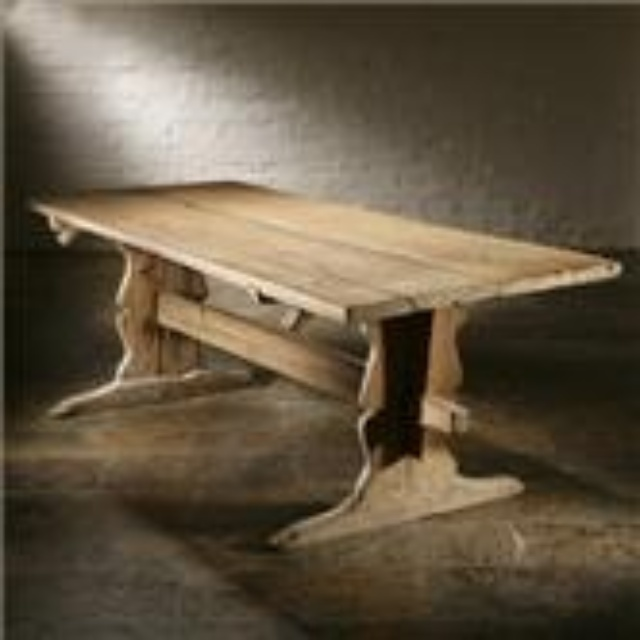obstacle: (35, 185, 617, 440), (359, 447, 520, 528)
